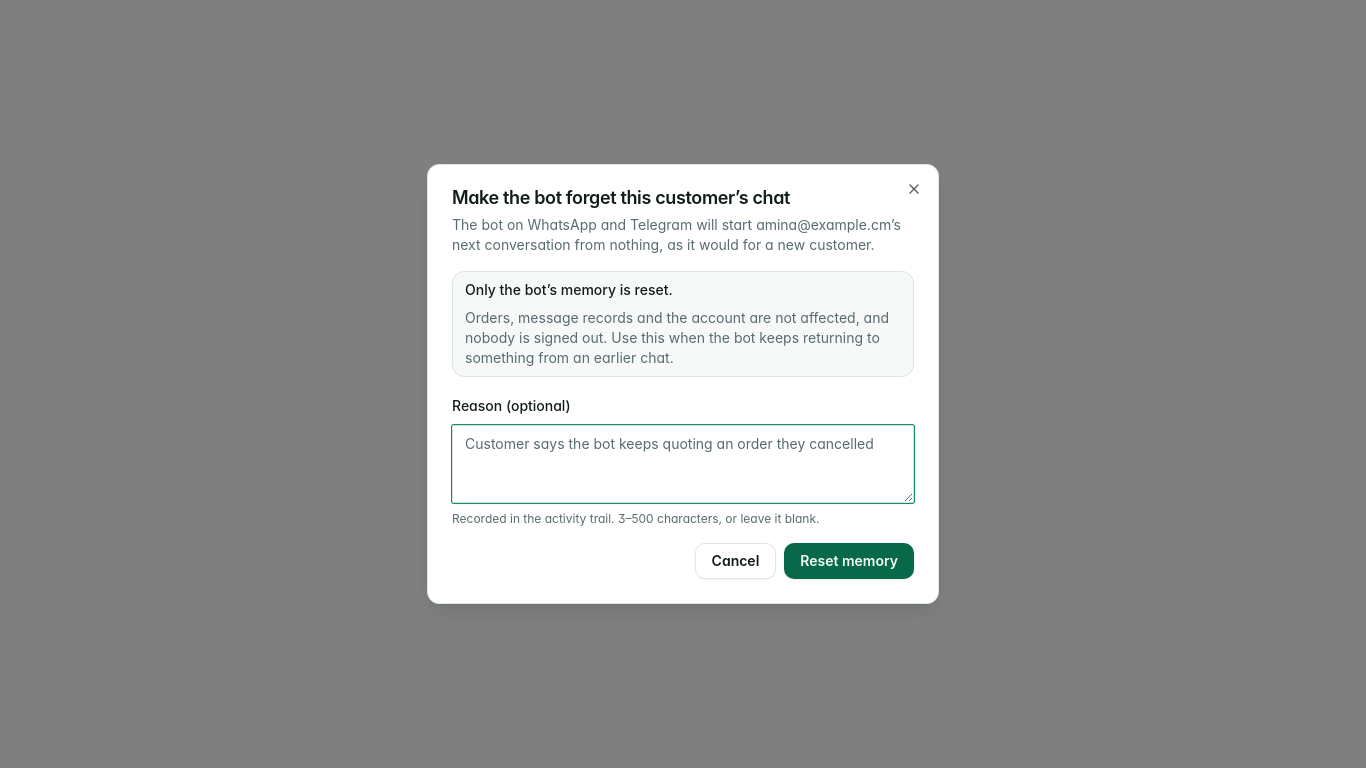
Scenario: the outcome › does not claim uncertainty on an ordinary refusal
Click the button "Reset memory": (849,561) 784,543 -> 914,579
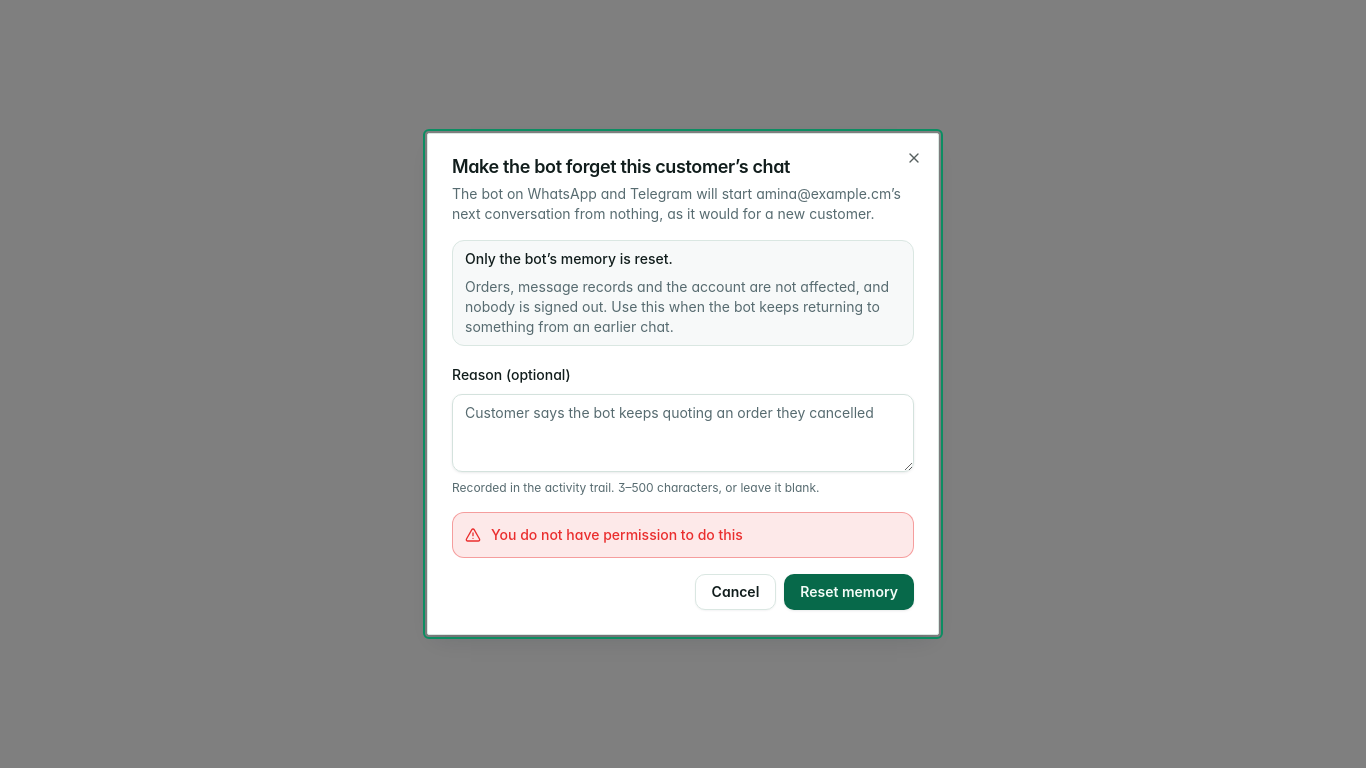
Result: the message "You do not have permission to do this" is shown at 452,512 -> 914,558
